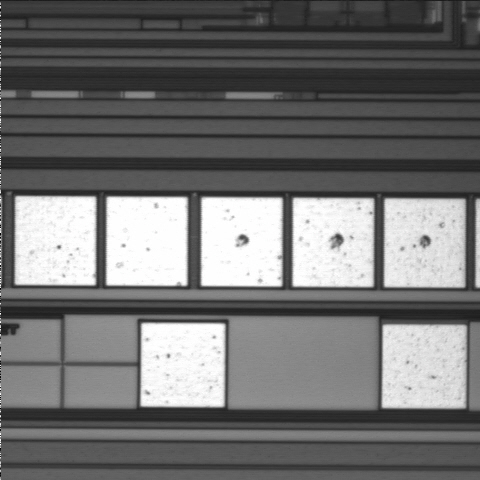pad: (106, 197, 188, 286), (15, 196, 96, 285), (201, 197, 282, 286), (293, 198, 374, 287), (384, 199, 465, 287), (141, 323, 225, 407), (382, 325, 466, 408)
